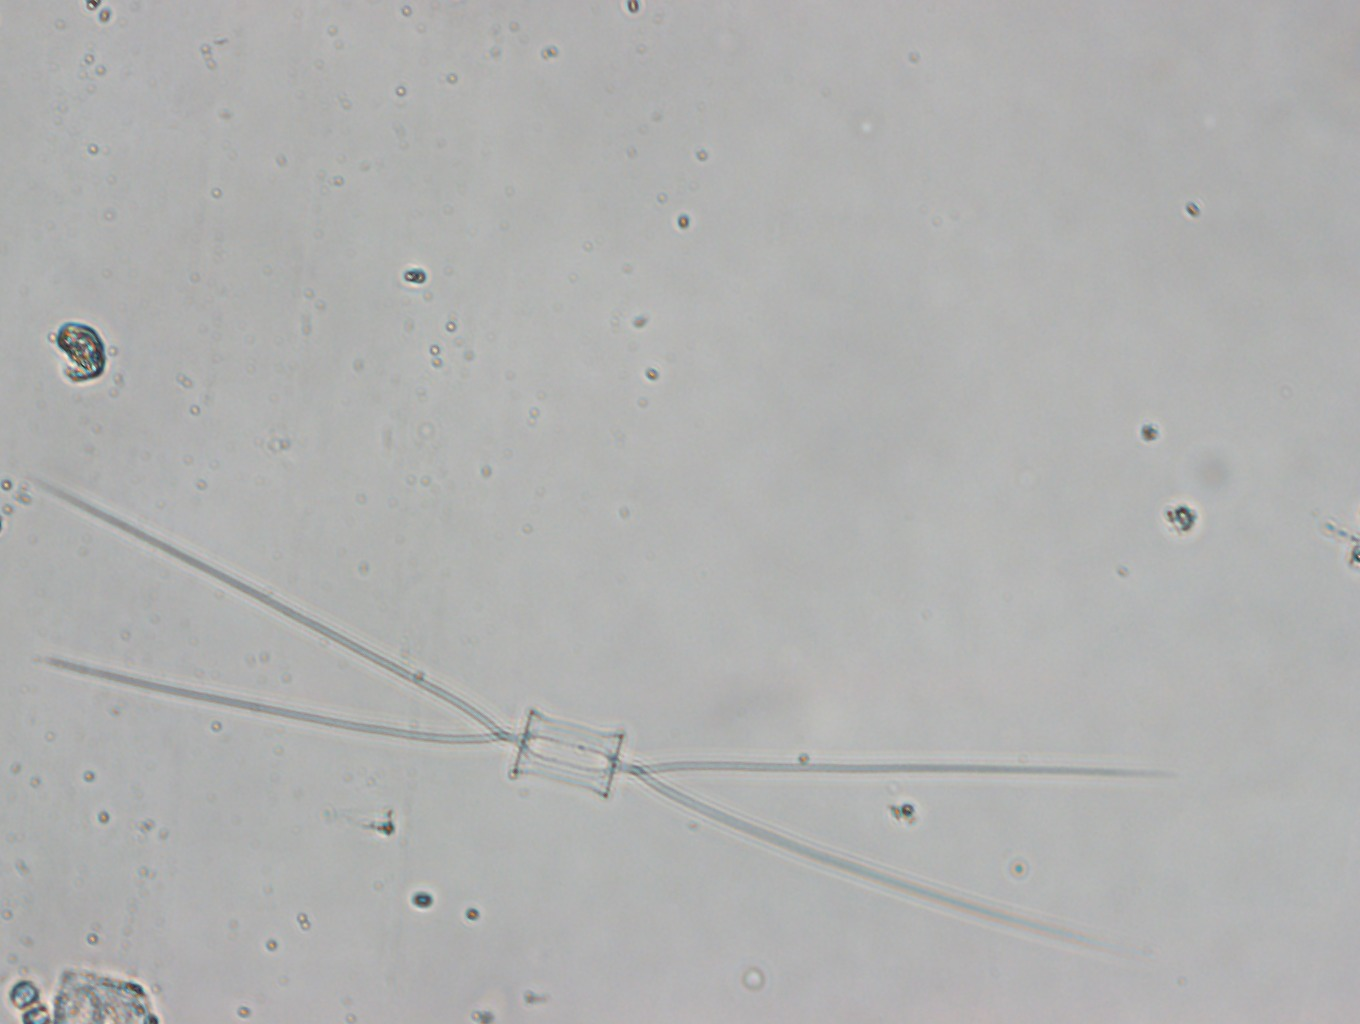chaetoceros: (10, 467, 1161, 959)
